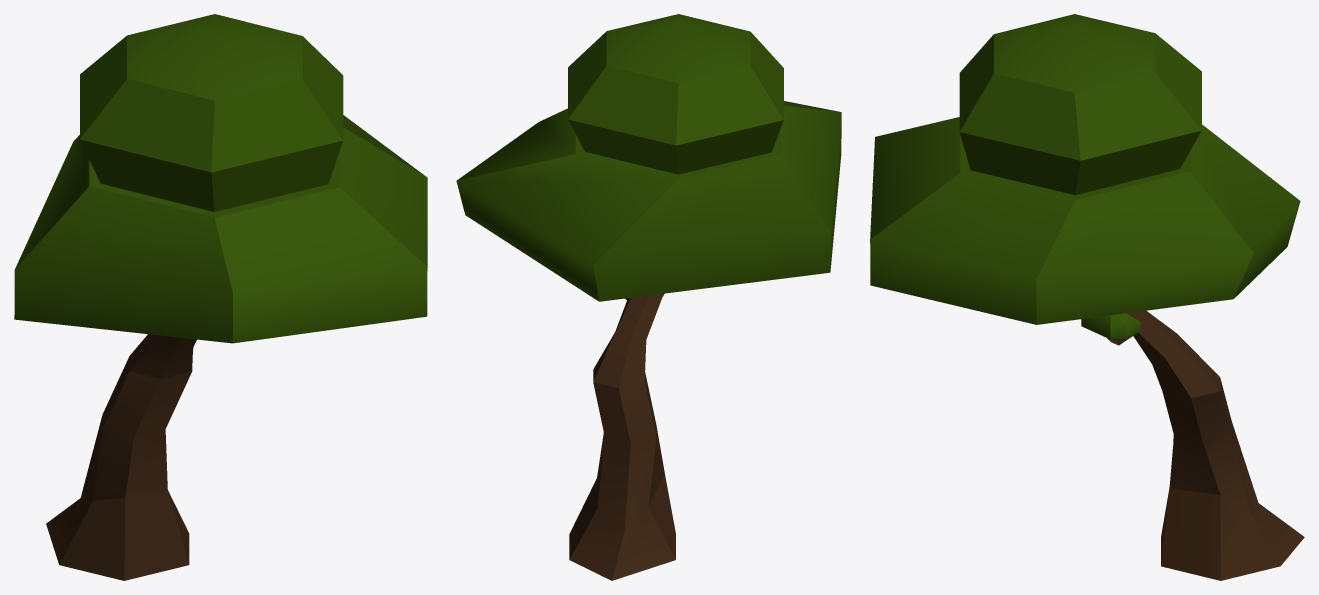
Rendered from Tree_02.fbx.
3 renders of one model, left to right at view 1: azimuth 30°, elevation 25°; view 2: azimuth 150°, elevation 25°; view 3: azimuth 270°, elevation 25°, orthographic. The views are drawn at different scales.
Parts seen in each view (by area): view 1: polySurface7; view 2: polySurface7; view 3: polySurface7.
Part boxes in pixels (box(x1,y1,x2,y2)): polySurface7: box(14, 14, 427, 580); polySurface7: box(456, 14, 841, 580); polySurface7: box(870, 14, 1304, 580).
Bounding box in the file's own units: 17.3 × 24.83 × 18.41.
